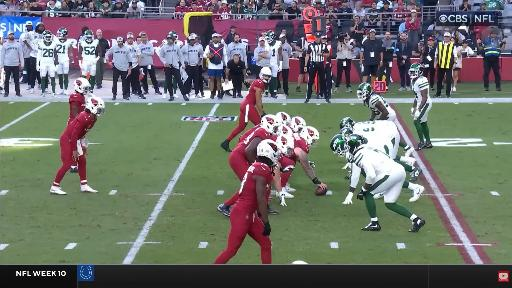Helmet: (257, 140, 280, 165), (345, 134, 365, 155), (276, 135, 294, 157), (86, 96, 105, 116), (300, 127, 319, 147), (261, 115, 279, 134), (331, 134, 345, 157), (74, 78, 90, 94), (357, 83, 372, 100), (408, 63, 423, 79), (291, 117, 306, 132), (276, 112, 291, 125), (260, 67, 271, 83), (340, 118, 355, 129), (340, 128, 353, 140), (278, 126, 293, 136), (56, 27, 68, 39), (84, 30, 94, 42), (43, 30, 52, 42), (266, 31, 275, 43), (169, 31, 177, 39), (292, 261, 307, 264)
Jersey: (353, 144, 402, 184), (236, 163, 272, 212), (354, 121, 397, 156), (62, 112, 97, 143), (234, 127, 271, 151), (354, 121, 397, 140), (366, 92, 392, 115), (412, 76, 431, 106), (243, 79, 264, 105), (39, 41, 56, 66), (69, 92, 85, 118), (80, 39, 98, 62), (239, 124, 260, 142), (56, 39, 72, 62), (292, 133, 309, 153), (269, 41, 281, 65), (175, 40, 183, 48)
Player: (214, 140, 279, 263), (345, 135, 425, 231), (50, 97, 105, 194), (340, 118, 421, 181), (221, 68, 271, 151), (229, 115, 279, 181), (278, 127, 326, 190), (409, 64, 432, 150), (78, 30, 101, 95), (36, 30, 58, 97), (357, 83, 395, 121), (56, 28, 74, 95), (354, 131, 393, 159), (266, 31, 282, 97), (68, 78, 90, 124), (280, 155, 296, 197), (290, 117, 306, 133), (290, 117, 306, 132), (276, 112, 291, 126)
